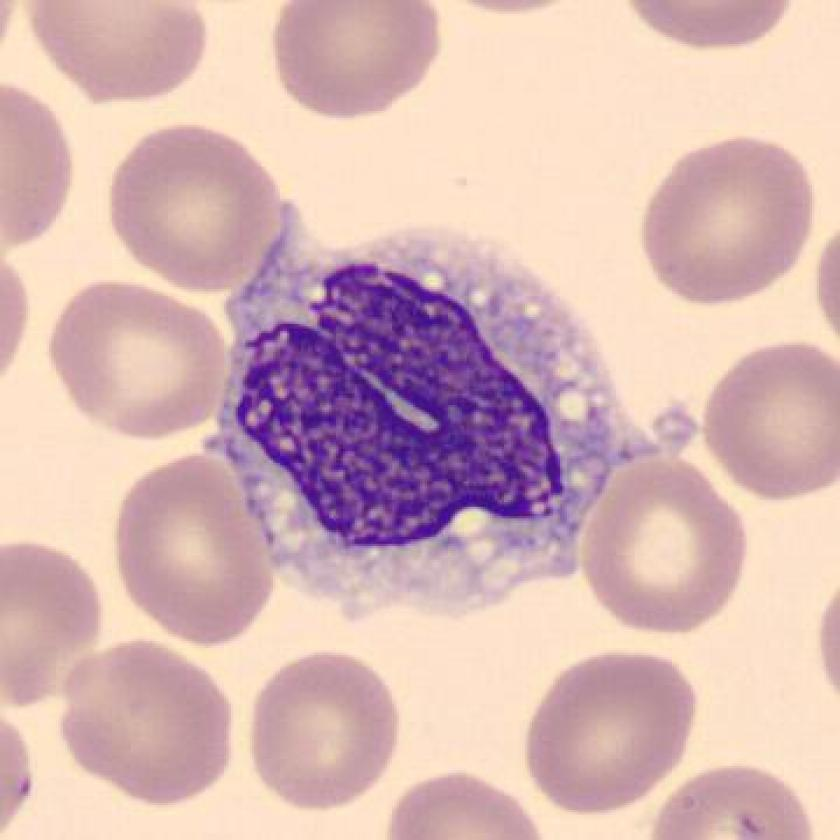monocyte: (190, 177, 689, 642)
